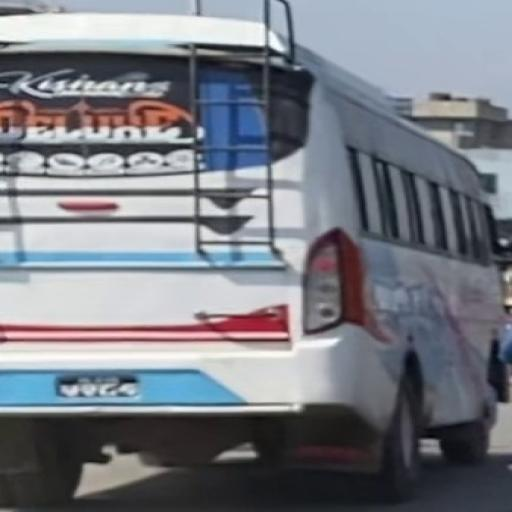license_plate: (51, 371, 145, 402)
